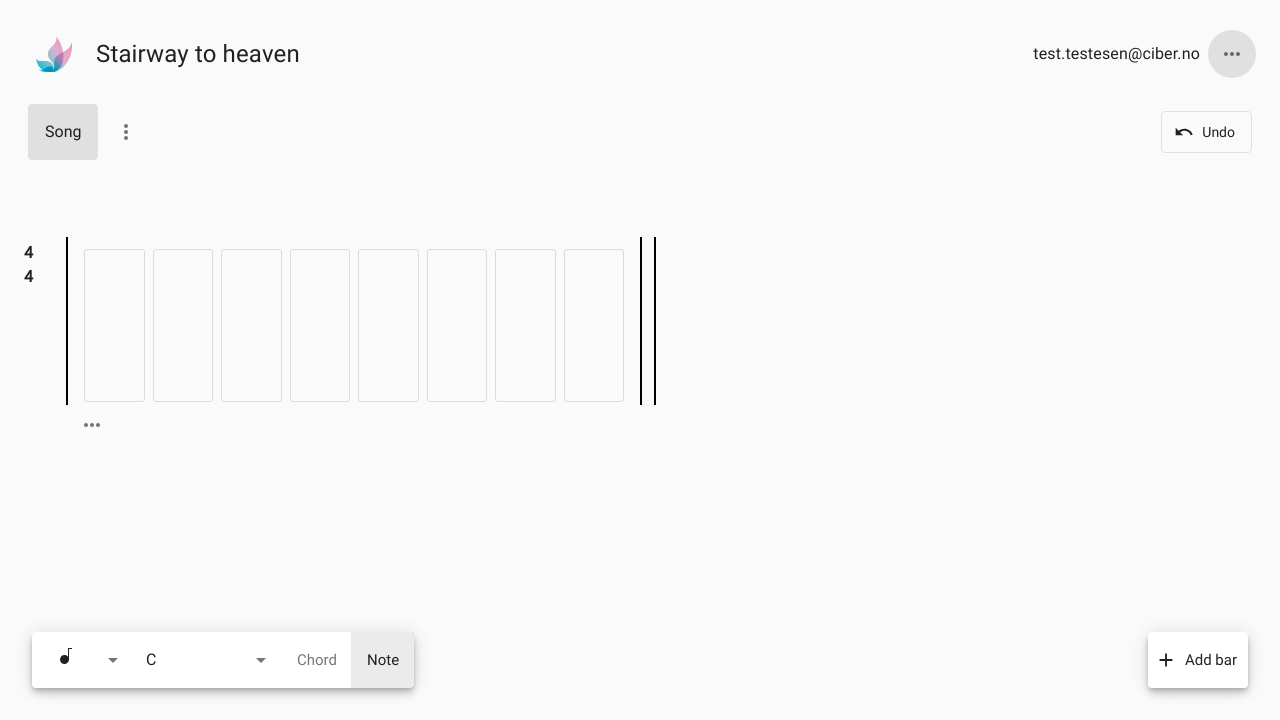
Scenario: SongView › Should add chord D
Check: the tab "Song" is shown, box [28,104,98,160]
Click the button "Chord".
click(317, 660)  # box [282,632,352,688]
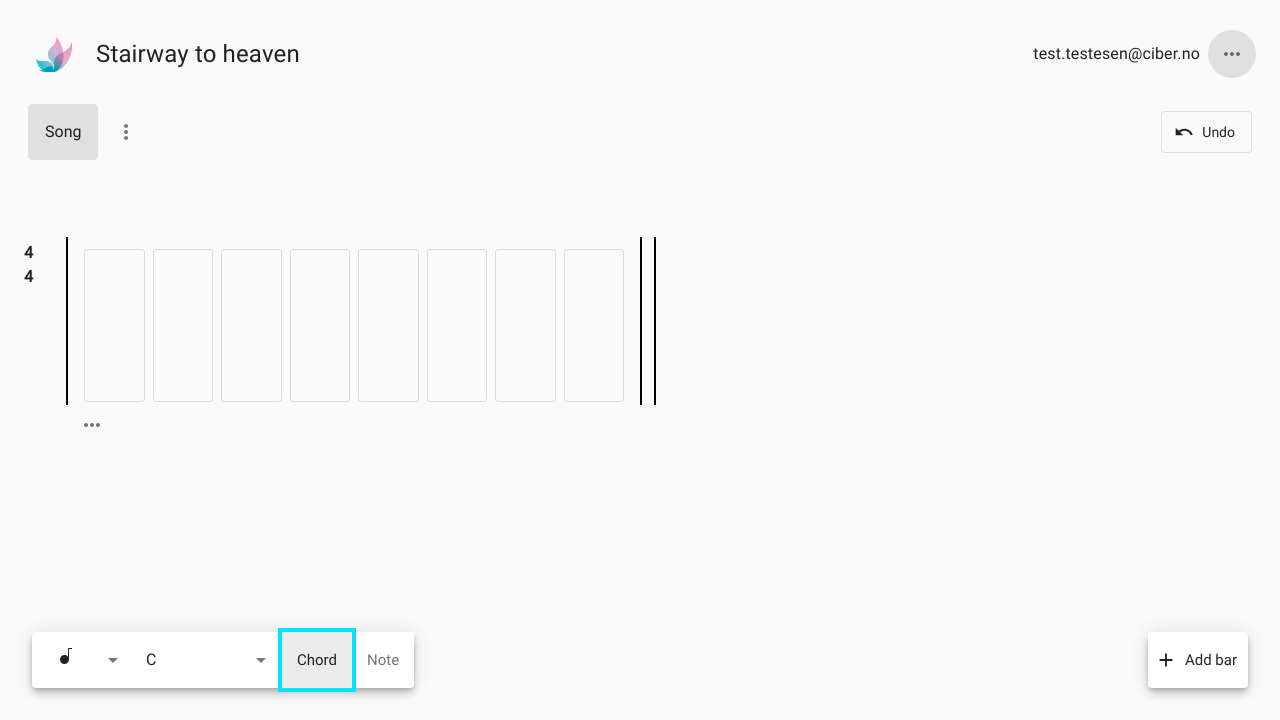
Click the dropdown named "Select chord".
click(179, 659)  # box [141,640,217,678]
(page scrolled)
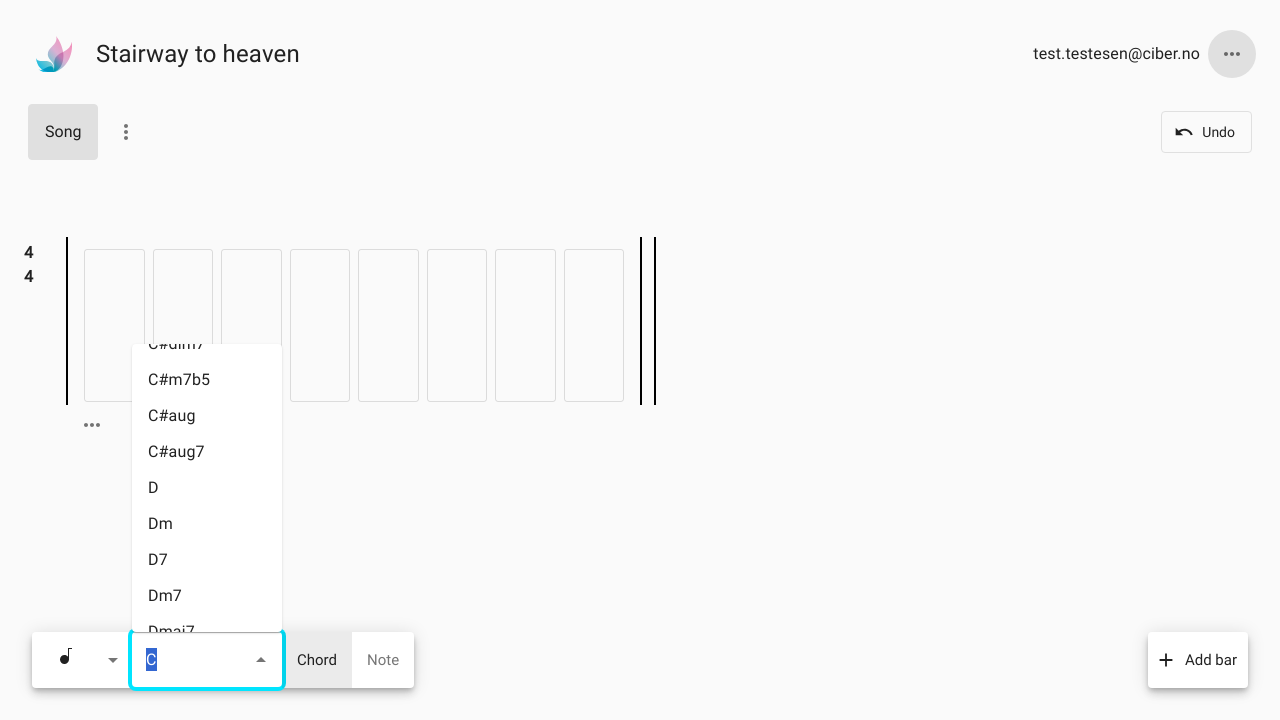
Click the option "D".
click(153, 488)  # box [148,478,159,497]
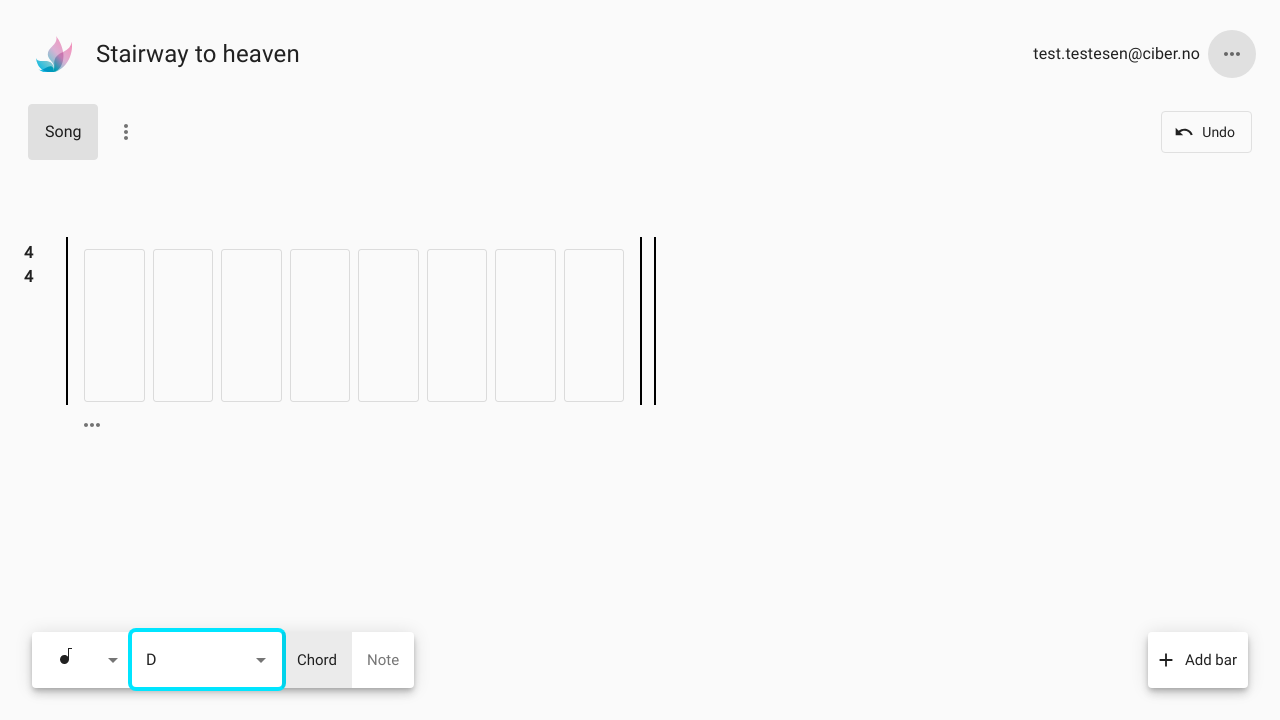
Check: the dropdown named "Select chord" holds "D", box [141,640,217,678]
Click the 1st button named "Empty, click to create chord or note".
click(114, 325)  # box [84,248,144,402]
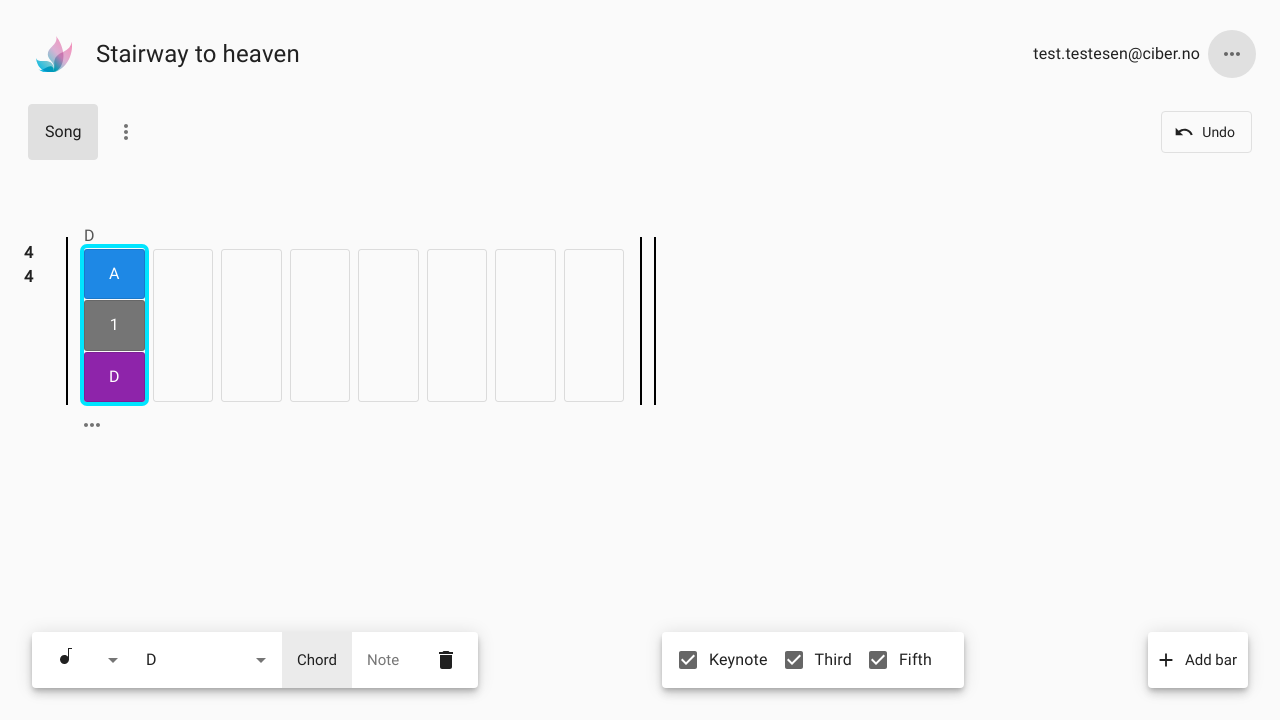
Check: the button "A 1 D" is shown, box [84,248,144,402]
